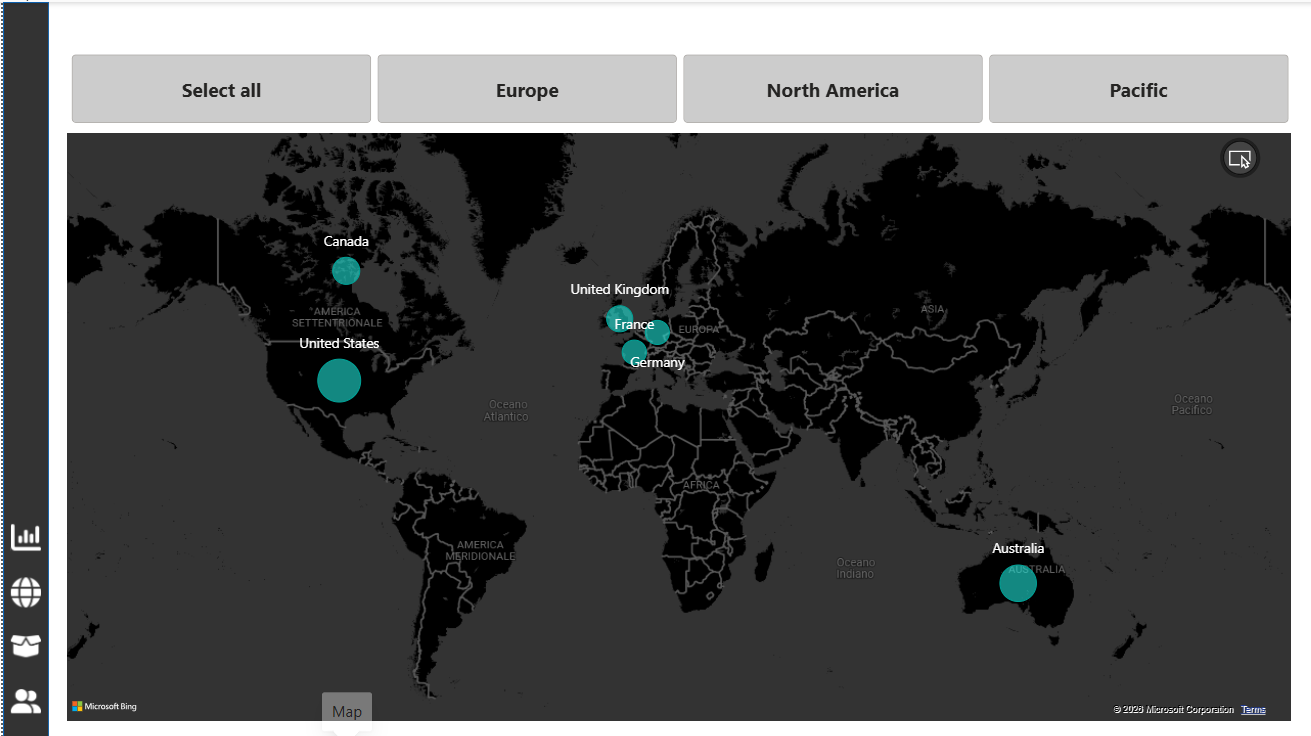

This screenshot's page, from the dashboard's own definition file:
{"tool":"powerbi","page":{"name":"Map","canvas":[1280,720],"ordinal":1},"visuals":[{"type":"shape","title":"Left Nav Background","box":[0,0,45,720],"z":0},{"type":"map","fields":{"Category":["Territory Lookup.Country"],"Size":["Mesure Table.Total Orders"]},"box":[57.5,123.8,1207.5,585],"z":1000},{"type":"advancedSlicerVisual","fields":{"Values":["Territory Lookup.Continent"]},"box":[62.5,46.2,1202.5,77.5],"z":2000},{"type":"actionButton","box":[3.8,505,45,37.5],"z":3000},{"type":"actionButton","box":[3.8,558.3,45,37.5],"z":4000},{"type":"actionButton","box":[3.8,665,45,37.5],"z":5000},{"type":"actionButton","box":[3.8,611.7,45,37.5],"z":6000}]}

Visuals, with their boxes in screenshot pixels (x1, y1, x2, y2):
"Left Nav Background" shape: box(0, 3, 45, 731)
map - Territory Lookup.Country x Mesure Table.Total Orders: box(58, 128, 1278, 719)
advancedSlicerVisual - Territory Lookup.Continent: box(63, 50, 1278, 128)
actionButton: box(4, 513, 49, 551)
actionButton: box(4, 567, 49, 605)
actionButton: box(4, 675, 49, 713)
actionButton: box(4, 621, 49, 659)
